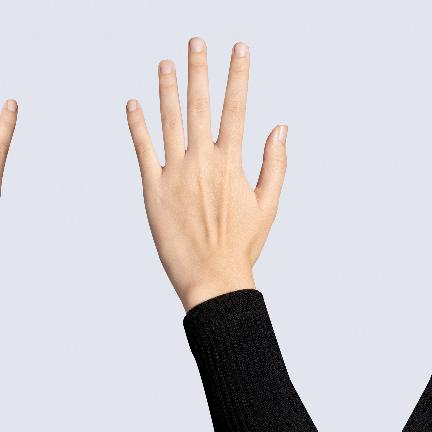Nail: (189, 37, 202, 52), (159, 59, 172, 74), (233, 42, 246, 56), (277, 125, 287, 143), (126, 99, 136, 112), (6, 99, 16, 112), (431, 126, 432, 136)
